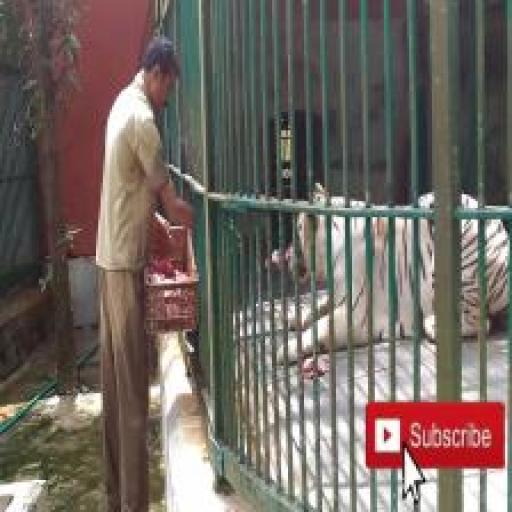Tiger: (276, 183, 508, 368)
